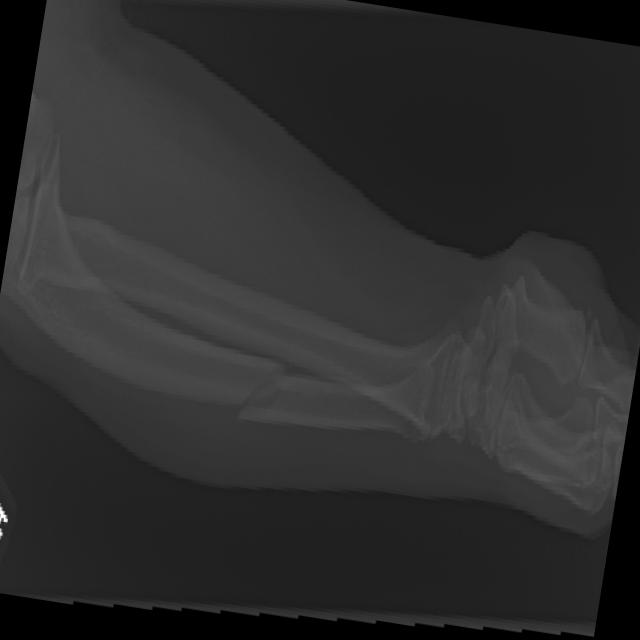forearm fracture: (212, 327, 326, 476)
